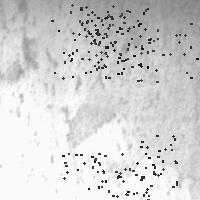pitted_surface: (40, 18, 198, 200), (2, 31, 85, 199), (88, 8, 148, 67), (137, 23, 196, 81), (70, 4, 127, 61), (51, 20, 108, 77), (86, 16, 138, 73), (62, 153, 122, 200), (97, 153, 154, 200), (133, 135, 176, 195)
